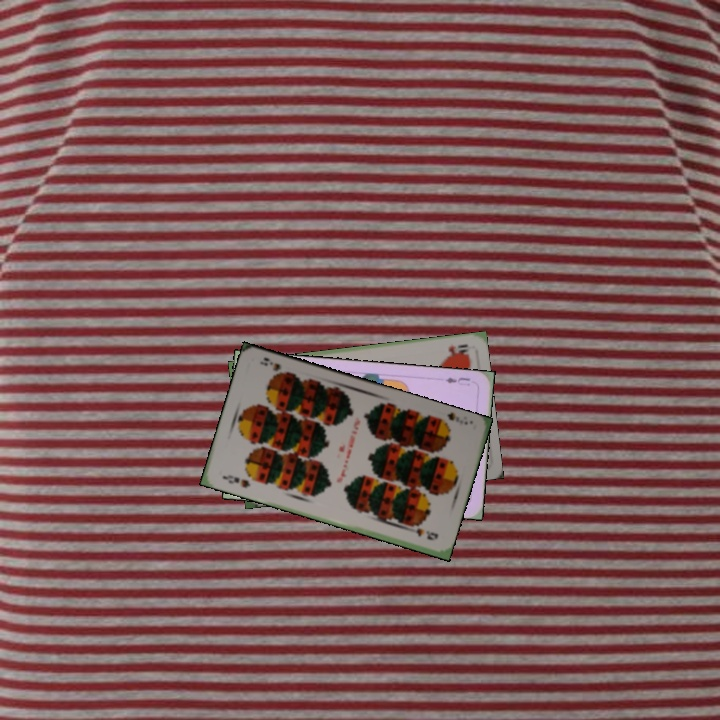EU: (441, 373, 473, 388)
HO: (442, 340, 472, 358)
S9: (218, 471, 253, 491), (443, 409, 470, 428)
